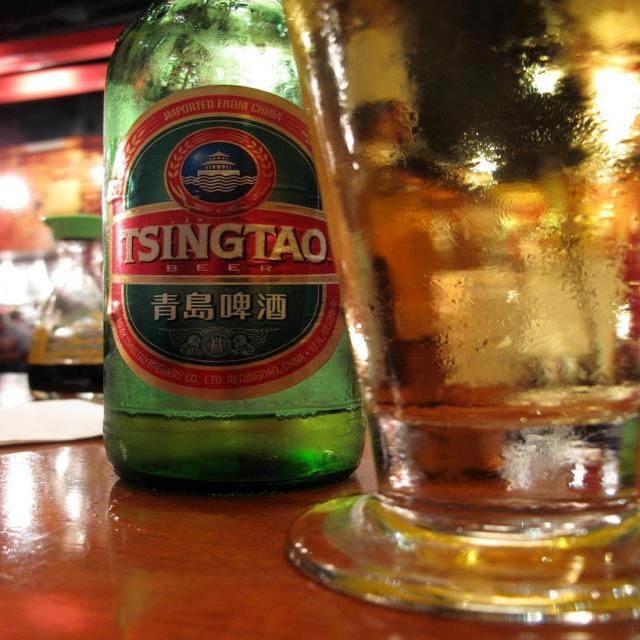tsingtao: (106, 86, 348, 403)
